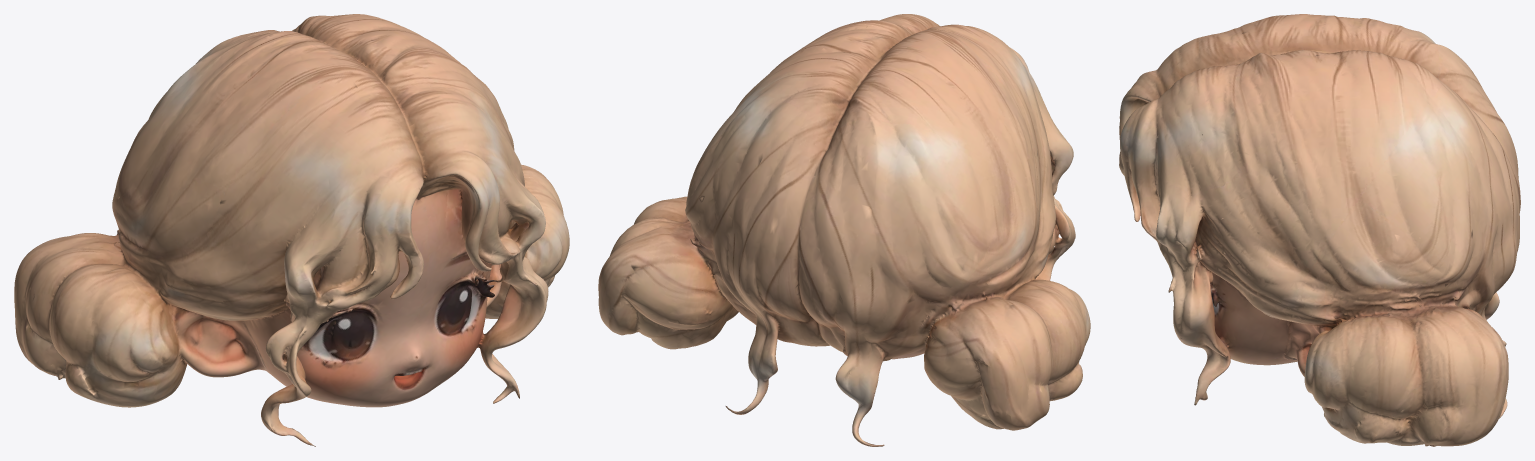
File: rosie-doll.glb
3 views of the same model, side by side, from view 1: azimuth 30°, elevation 25°; view 2: azimuth 150°, elevation 25°; view 3: azimuth 270°, elevation 25° (orthographic). The views are drawn at different scales.
Bounding box in the file's own units: 2 × 1.4 × 1.47.
Materials: 1 (1 with a texture image).
